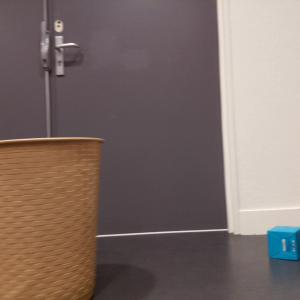medium: (1, 135, 106, 300)
small: (268, 226, 300, 262)
